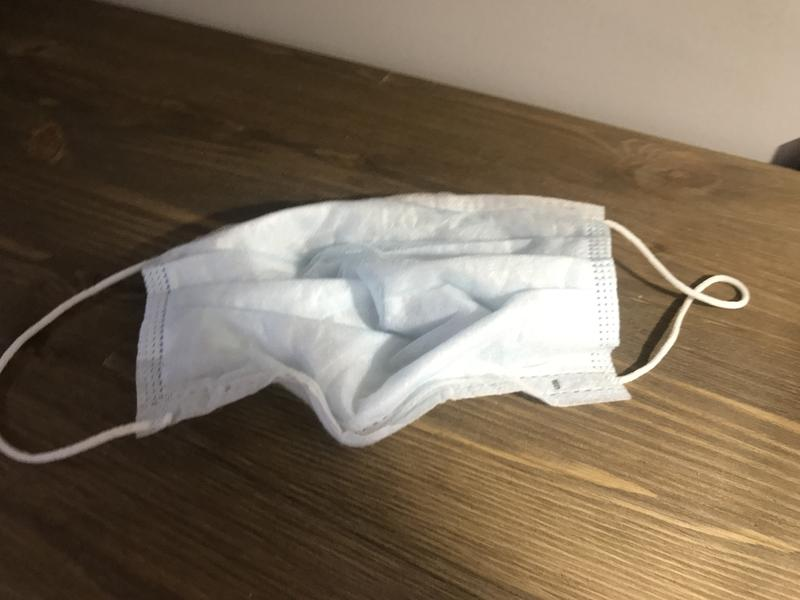medical_mask: (6, 192, 751, 466)
